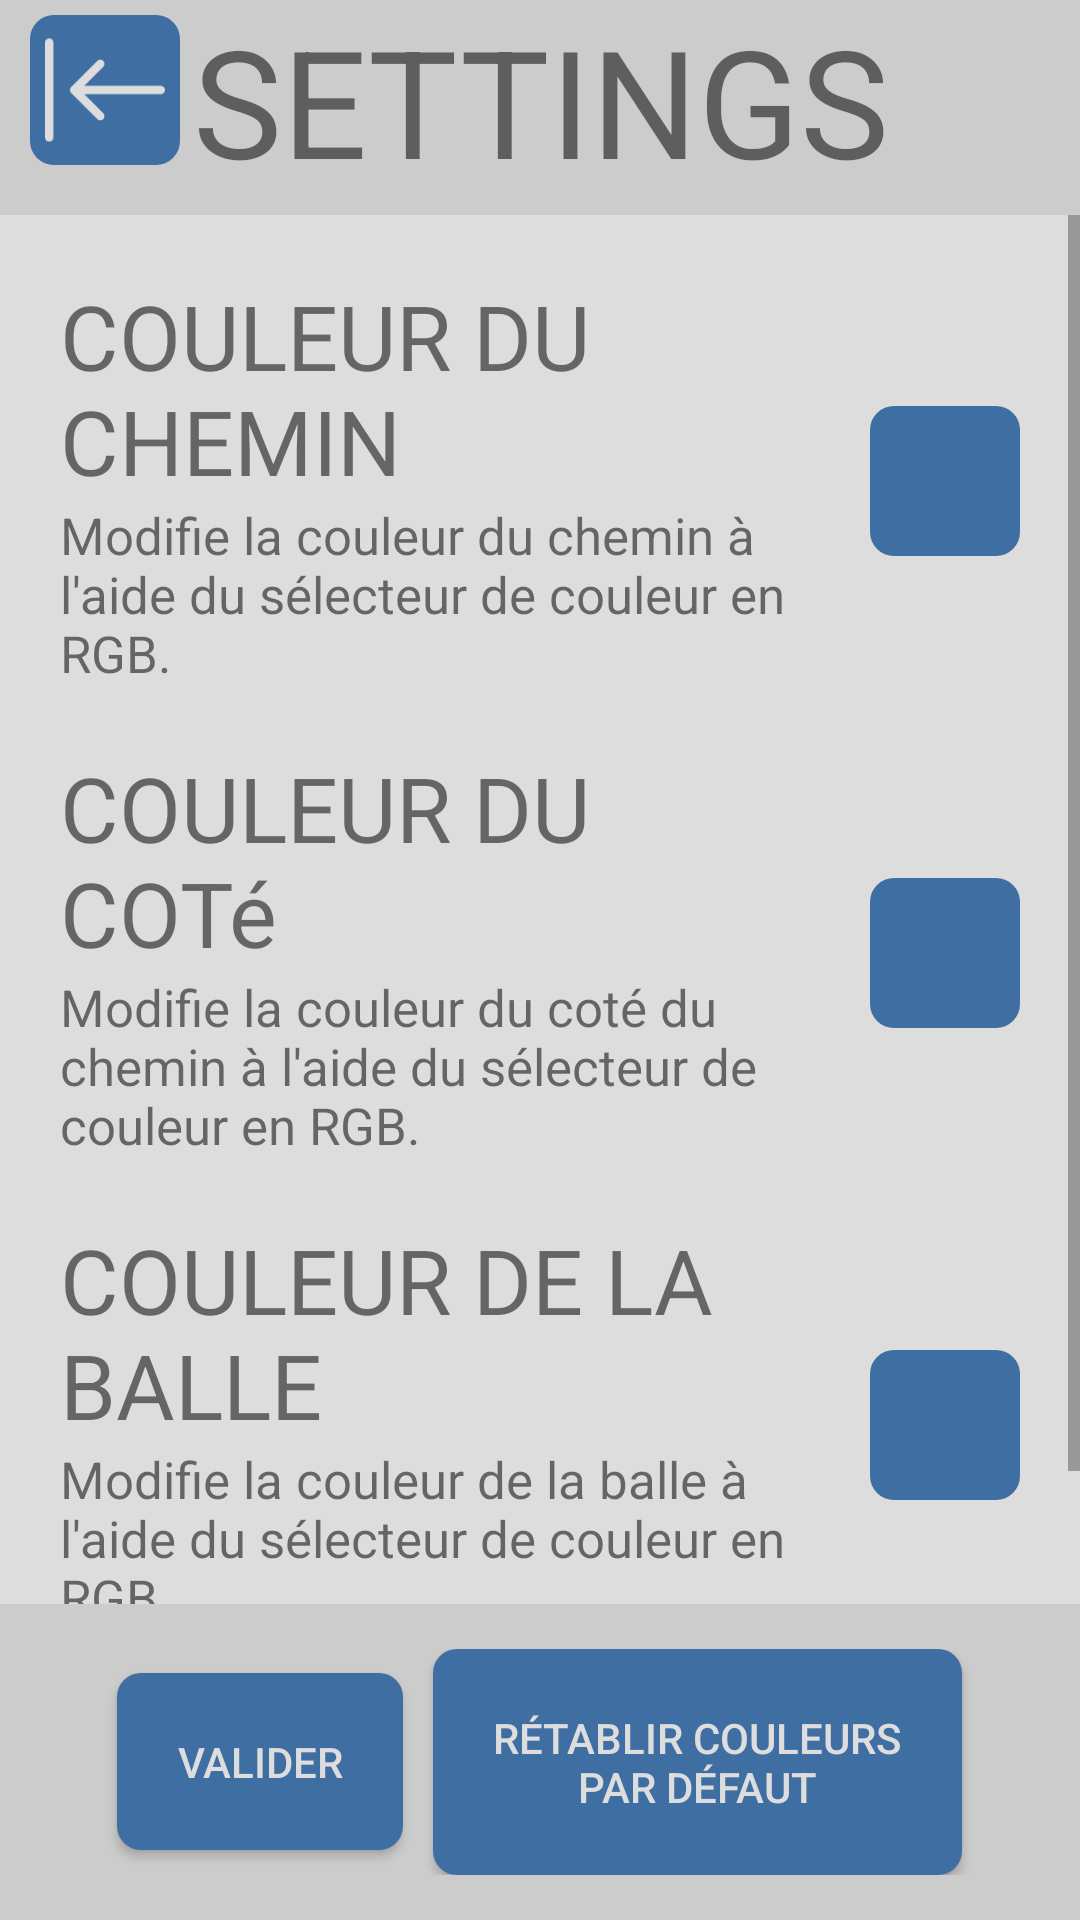

Named icons in this screenshot (1080px×1920px) and their bounding boxes, (x1=x1, y1=y1, x2=x2, y2=y2):
previous: (x1=30, y1=15, x2=180, y2=165)
